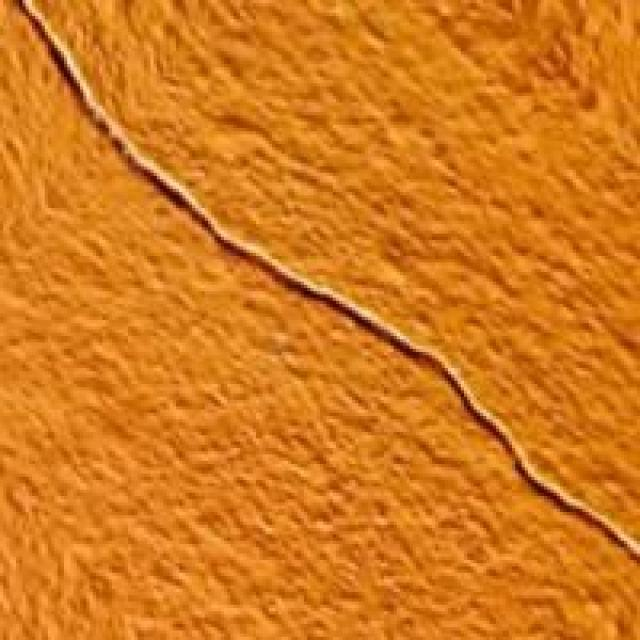crack: (22, 0, 636, 582)
